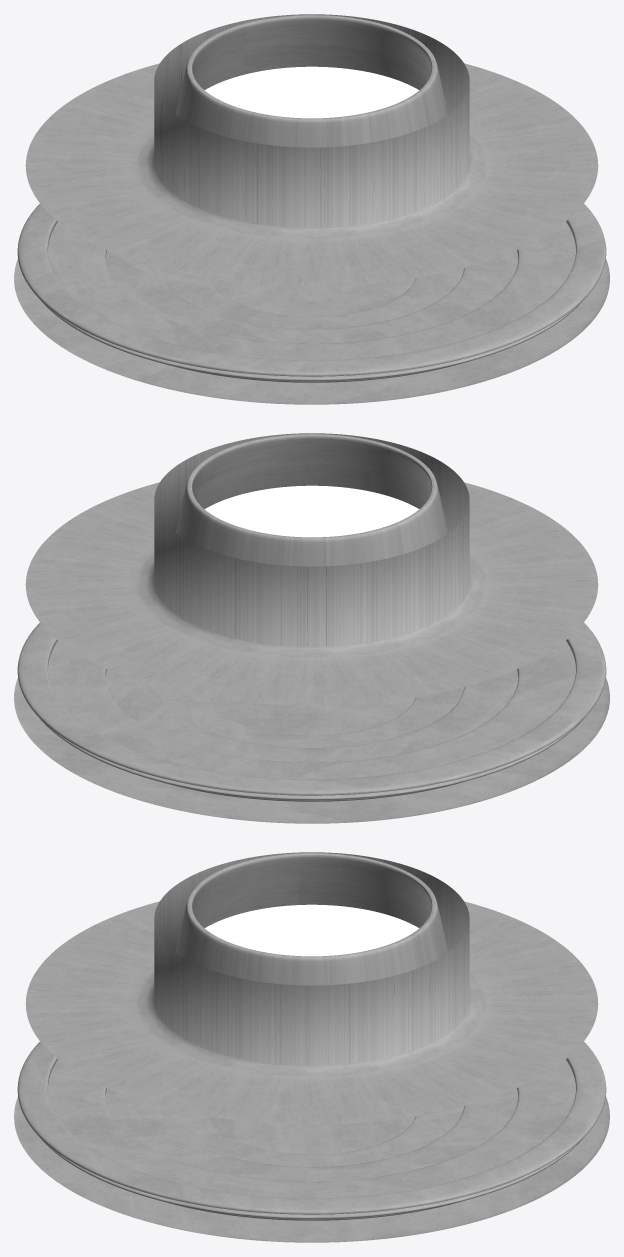
File: fbscene2.glb
3 views of the same model, one above another, from view 1: azimuth 30°, elevation 25°; view 2: azimuth 150°, elevation 25°; view 3: azimuth 270°, elevation 25° (orthographic).
Parts seen in each view (by area): view 1: Torus.011, Cylinder.015, Cylinder.005, Cylinder.006, Cylinder.001, Cylinder.004, Cylinder.013, Cylinder.016, Cylinder.003; view 2: Torus.011, Cylinder.015, Cylinder.005, Cylinder.006, Cylinder.001, Cylinder.004, Cylinder.013, Cylinder.016, Cylinder.003; view 3: Torus.011, Cylinder.015, Cylinder.005, Cylinder.006, Cylinder.001, Cylinder.004, Cylinder.013, Cylinder.016, Cylinder.003.
Boxes of the visible parts, x1=… form: Torus.011: x1=25, y1=14, x2=598, y2=286; Cylinder.015: x1=14, y1=259, x2=609, y2=404; Cylinder.005: x1=39, y1=222, x2=584, y2=381; Cylinder.006: x1=17, y1=204, x2=606, y2=376; Cylinder.001: x1=191, y1=16, x2=432, y2=89; Cylinder.004: x1=105, y1=250, x2=518, y2=382; Cylinder.013: x1=175, y1=15, x2=448, y2=147; Cylinder.016: x1=204, y1=66, x2=419, y2=118; Cylinder.003: x1=160, y1=268, x2=463, y2=328; Torus.011: x1=25, y1=433, x2=598, y2=705; Cylinder.015: x1=14, y1=678, x2=609, y2=823; Cylinder.005: x1=39, y1=641, x2=584, y2=800; Cylinder.006: x1=17, y1=623, x2=606, y2=795; Cylinder.001: x1=191, y1=435, x2=432, y2=508; Cylinder.004: x1=105, y1=669, x2=518, y2=801; Cylinder.013: x1=175, y1=434, x2=448, y2=566; Cylinder.016: x1=204, y1=485, x2=419, y2=537; Cylinder.003: x1=160, y1=687, x2=463, y2=747; Torus.011: x1=25, y1=852, x2=598, y2=1124; Cylinder.015: x1=14, y1=1097, x2=609, y2=1242; Cylinder.005: x1=39, y1=1060, x2=584, y2=1219; Cylinder.006: x1=17, y1=1042, x2=606, y2=1214; Cylinder.001: x1=191, y1=854, x2=432, y2=928; Cylinder.004: x1=105, y1=1088, x2=518, y2=1220; Cylinder.013: x1=175, y1=853, x2=448, y2=985; Cylinder.016: x1=205, y1=904, x2=419, y2=956; Cylinder.003: x1=160, y1=1106, x2=463, y2=1166.
Size of the model in its own units: 43.53 by 17.11 by 43.53.
Materials: 4 (1 with a texture image).
